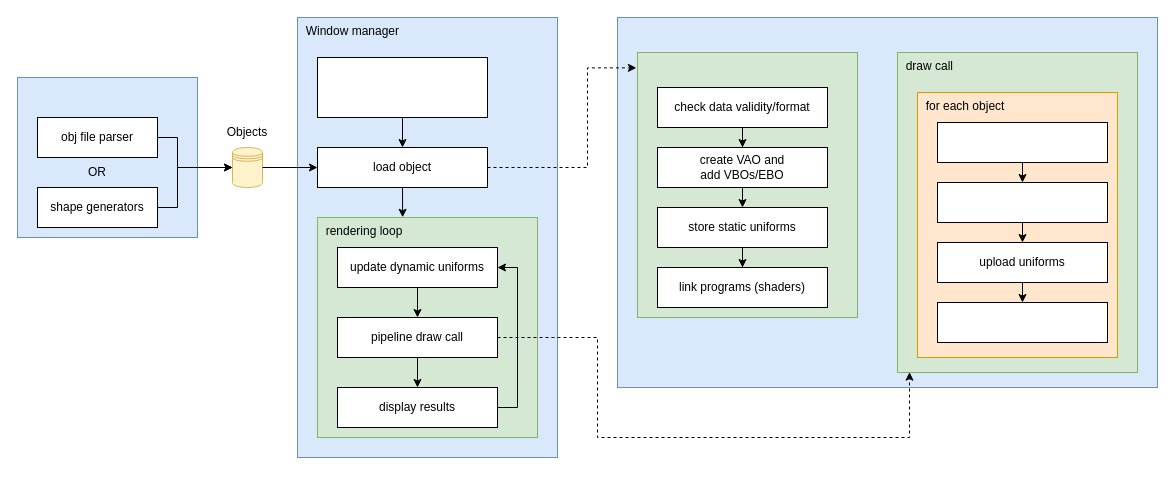
Some shapes in this 1175 by 485 pixel diagram are drawn without their labels. The box of each missing label's shape, as (x1, y1, x2, y2) in pixels:
add object: (636, 52, 858, 318)
bind corresponding VAO: (936, 122, 1108, 162)
create GL context and window: (316, 56, 488, 118)
GL draw call: (936, 302, 1108, 342)
load program (shaders): (936, 182, 1108, 222)
Object inputs: (16, 76, 198, 238)
Pipeline: (616, 16, 1158, 388)
